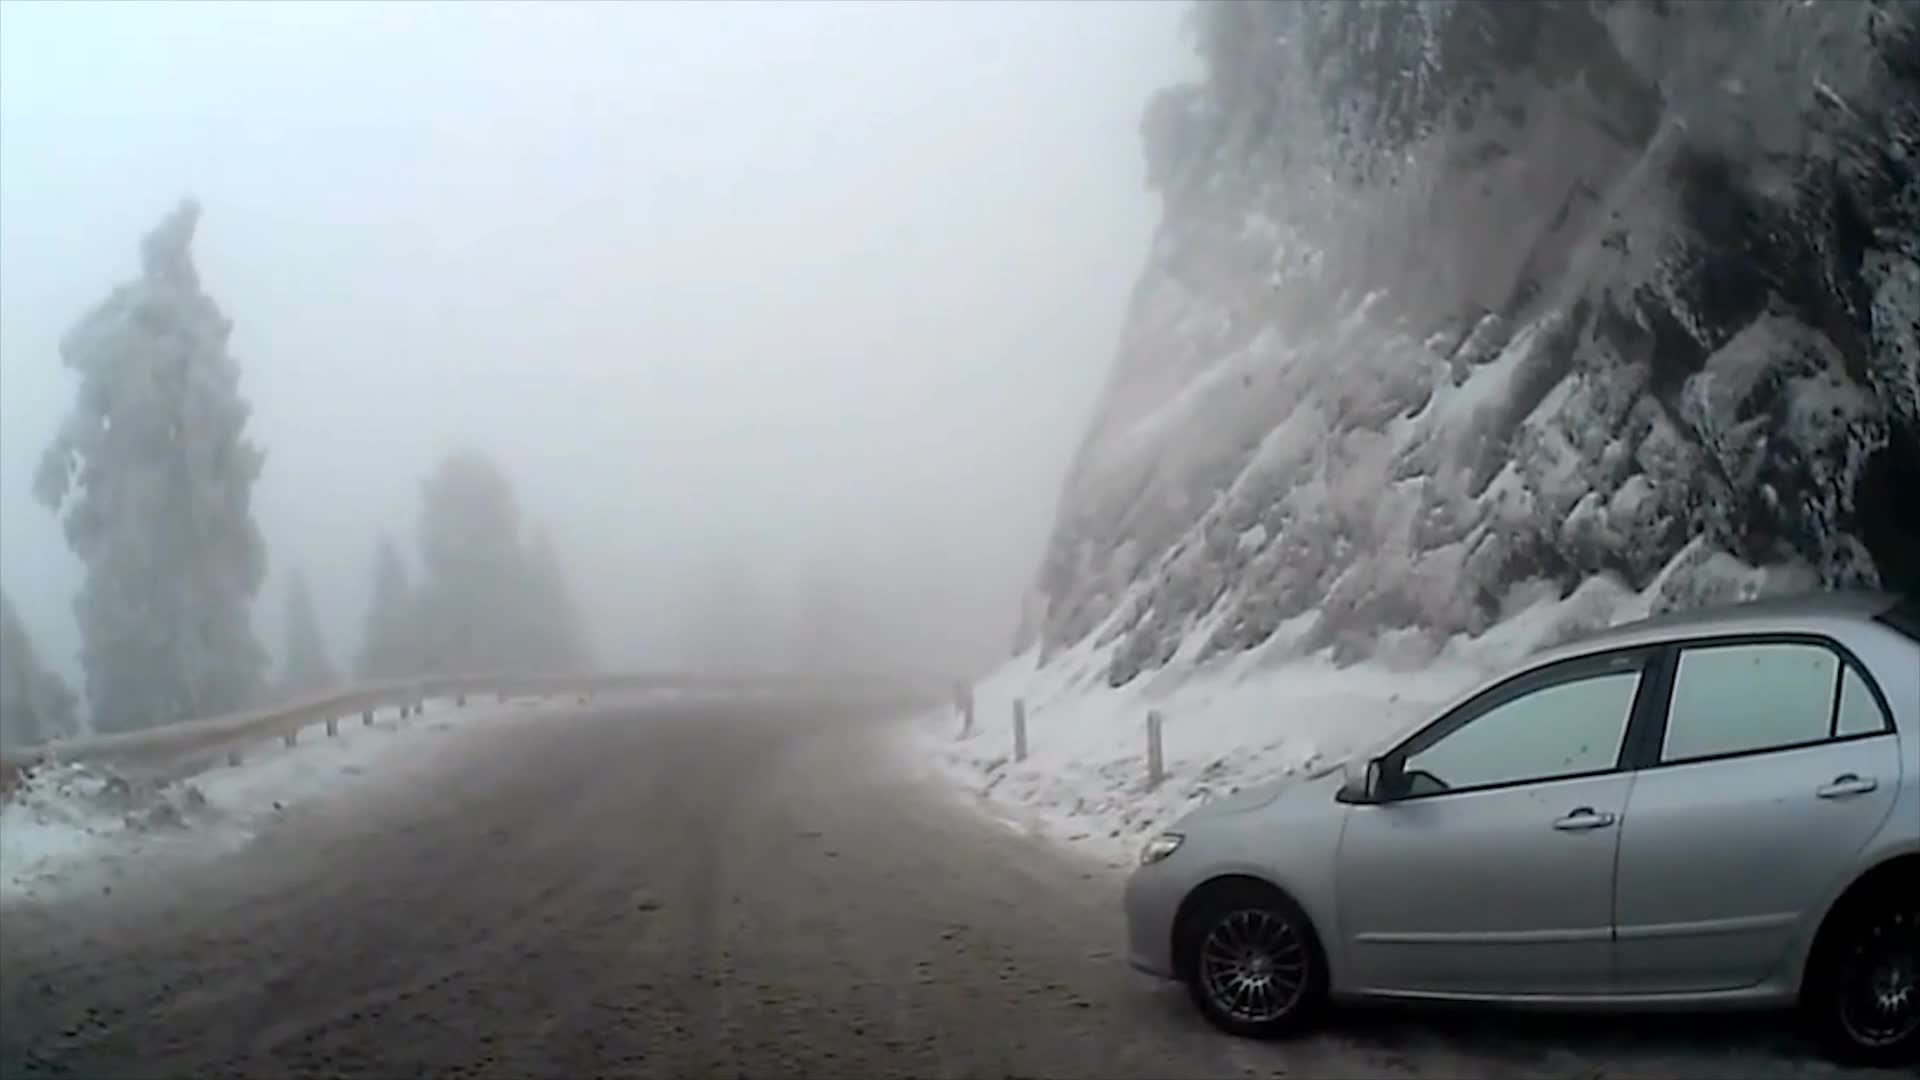vehicle: (1120, 585, 1920, 1073)
